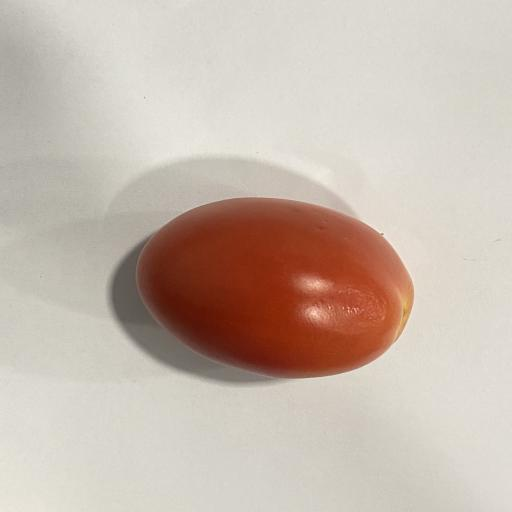ripe: (136, 197, 413, 378)
